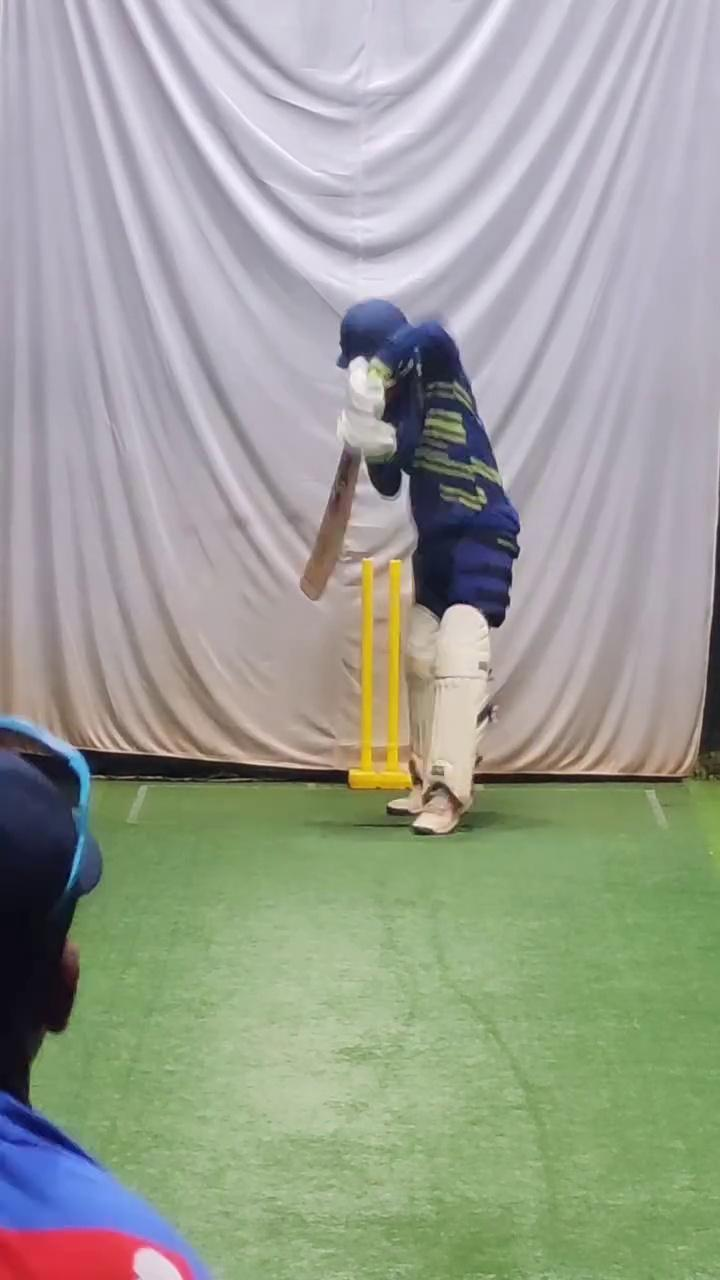bat: (294, 440, 363, 609)
